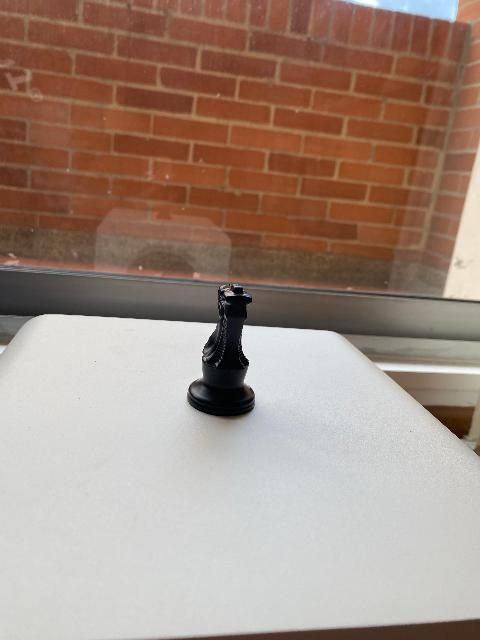black-knight: (187, 282, 257, 416)
